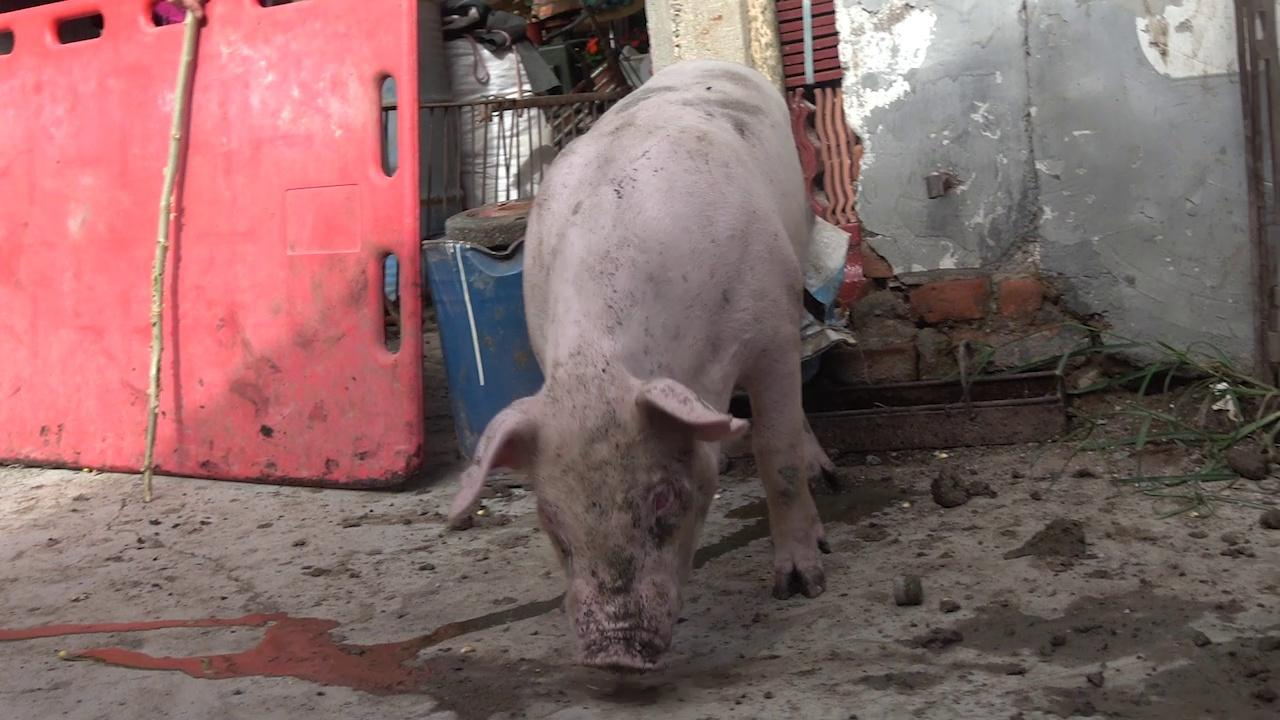Face: (437, 370, 769, 680)
